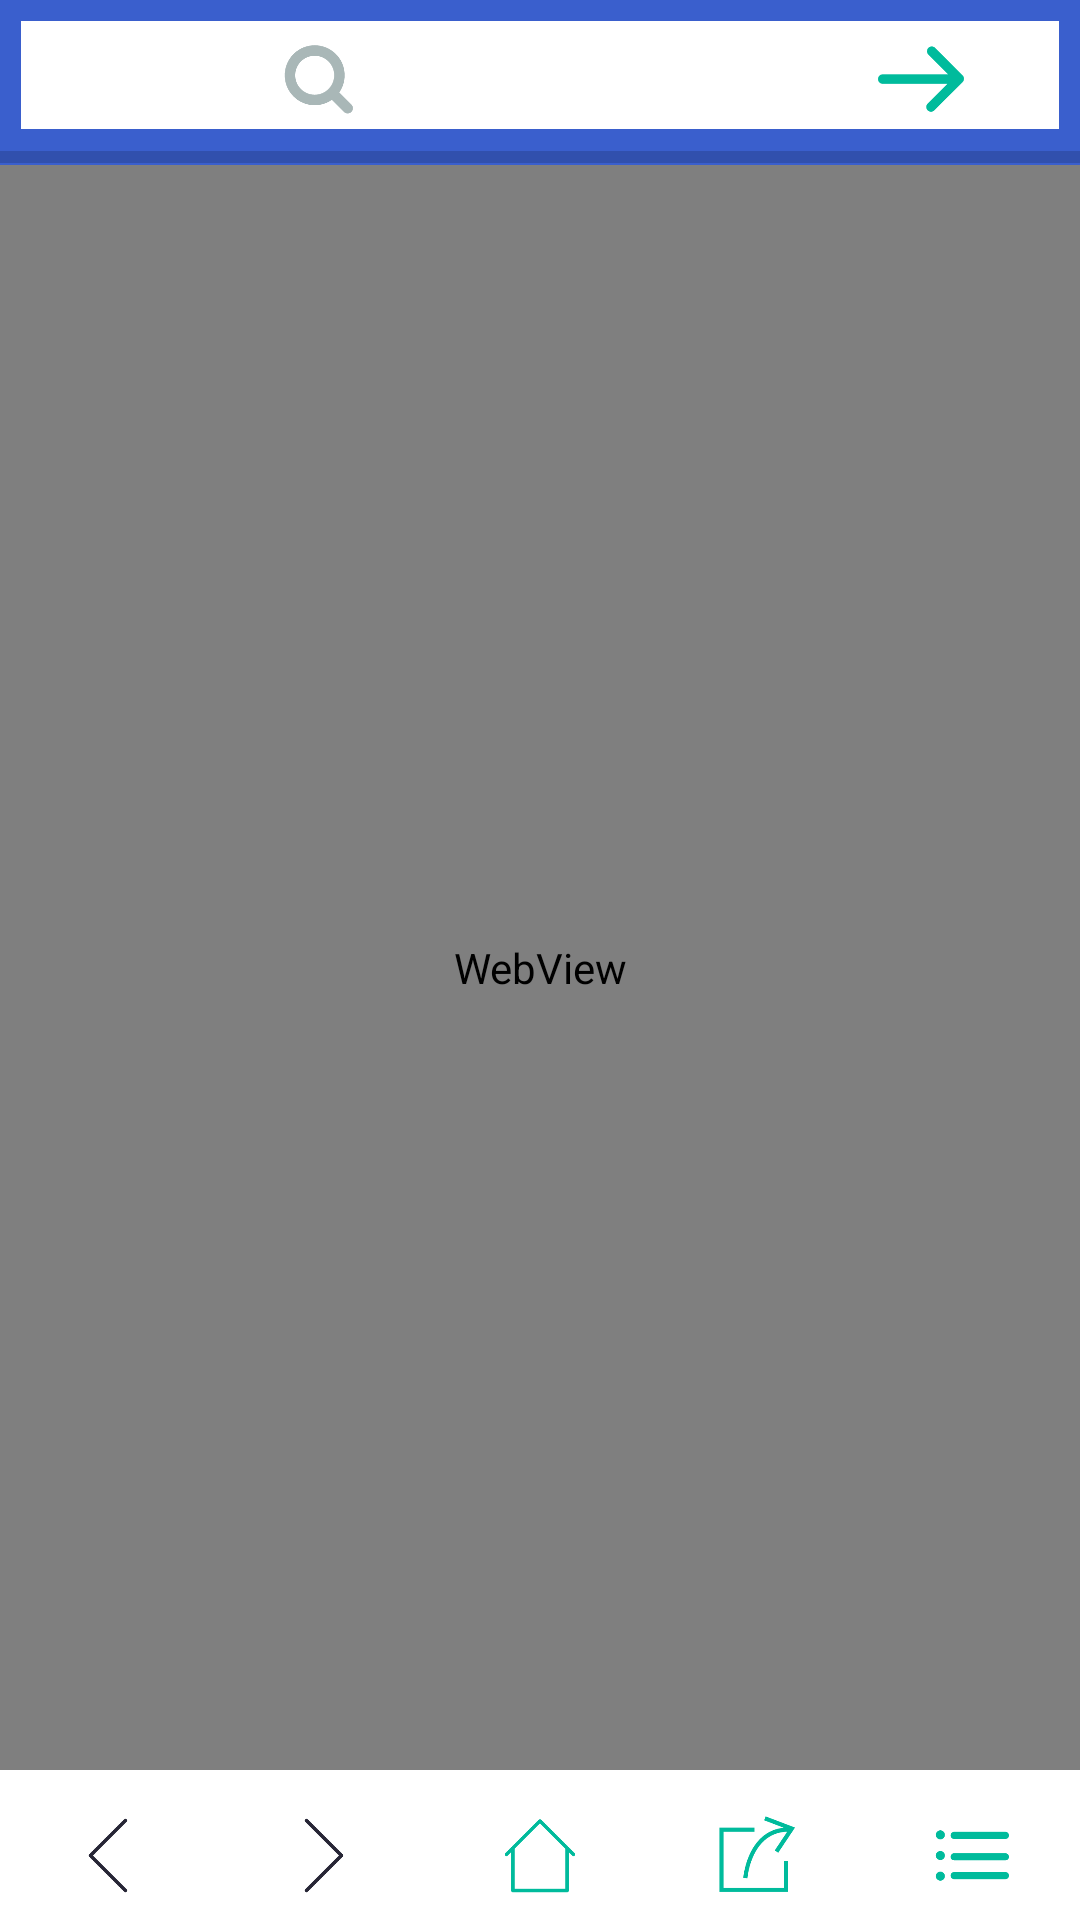

Named icons in this screenshot (1080 x 1920) and their bounding boxes, (x1, y1, x2, y2):
back: (88, 1818, 127, 1893)
forward: (304, 1819, 343, 1893)
home: (505, 1819, 575, 1893)
menu: (935, 1830, 1009, 1881)
share: (719, 1816, 795, 1892)
